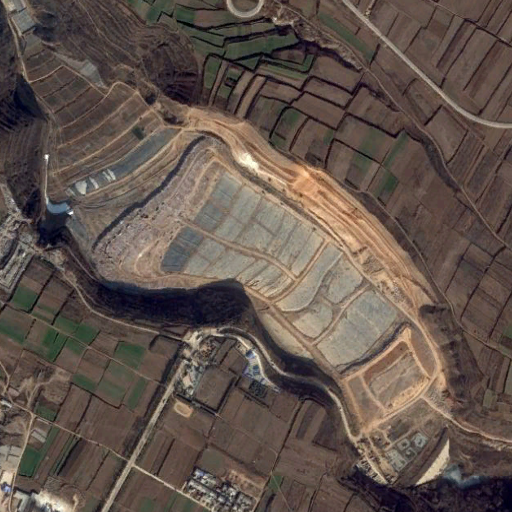lf: (66, 121, 439, 431)
